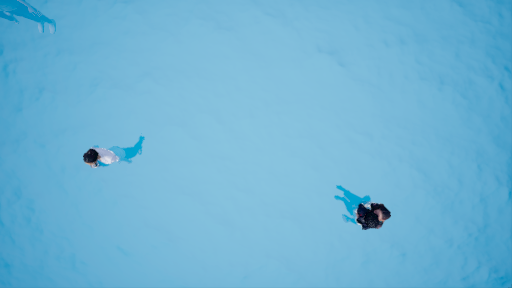person: (330, 183, 399, 231), (79, 134, 146, 172)
